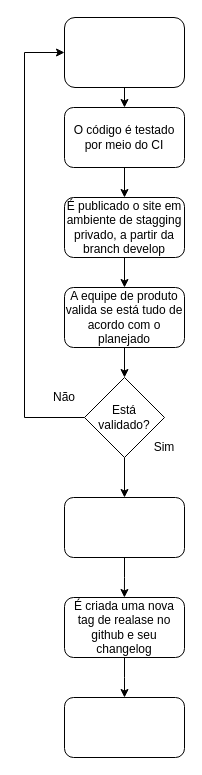
Some shapes in this 202 by 775 pixel diagram are drawn without their labels. The centre of each missing label's shape, as x and y in pixels:
Por meio do CD o site é publicado a partir da branch main: [124,727]
São desenvolvidas as features tendo como branch padrão a develop: [124,52]
É mergida a branch develop para main: [124,527]
